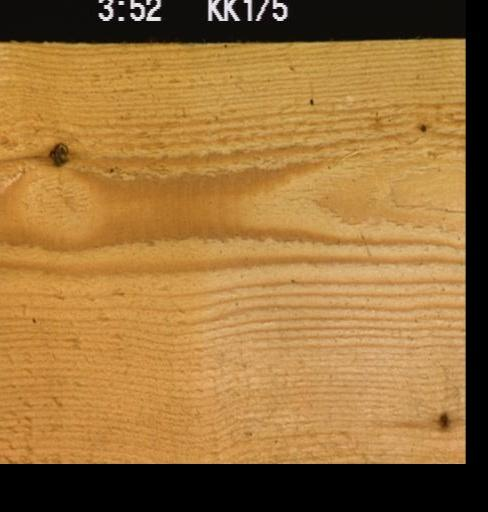dry_knot: (46, 138, 70, 166)
small_knot: (434, 408, 450, 428), (415, 119, 425, 133)
